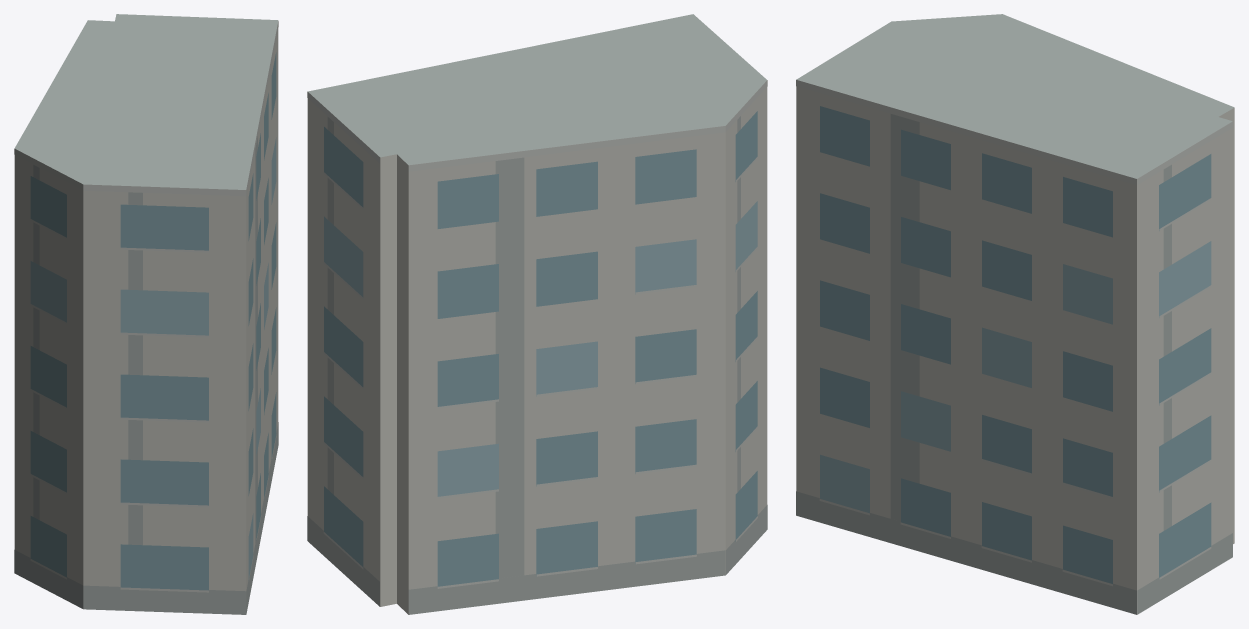
Rendered from survey-upis-32984208.glb.
The picture shows the model from 3 angles, left to right: view 1: azimuth 30°, elevation 25°; view 2: azimuth 150°, elevation 25°; view 3: azimuth 270°, elevation 25°; orthographic projection. The views are drawn at different scales.
Parts seen in each view (by area): view 1: survey-upis-32984208.tmp; view 2: survey-upis-32984208.tmp; view 3: survey-upis-32984208.tmp.
Part boxes in pixels (bbox=[...]): survey-upis-32984208.tmp: bbox=[14, 14, 278, 614]; survey-upis-32984208.tmp: bbox=[307, 14, 767, 614]; survey-upis-32984208.tmp: bbox=[796, 14, 1234, 614].
Bounding box in the file's own units: 13.36 × 16.45 × 15.01.
